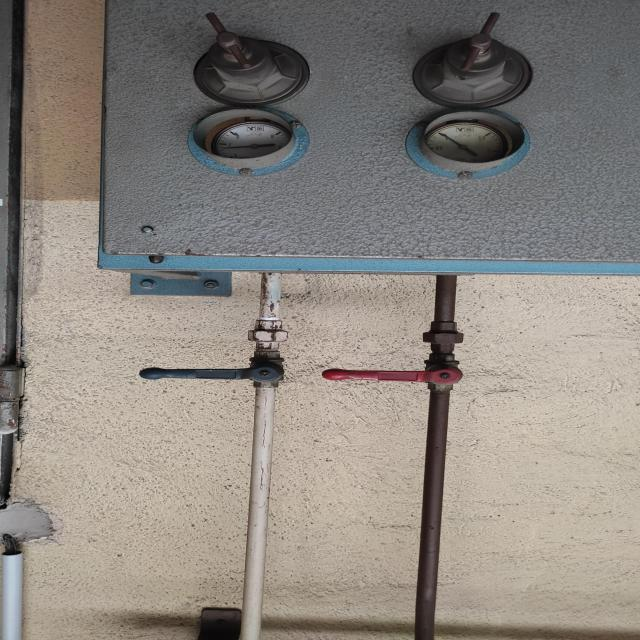closed_valve: (138, 350, 288, 389), (321, 352, 464, 390)
